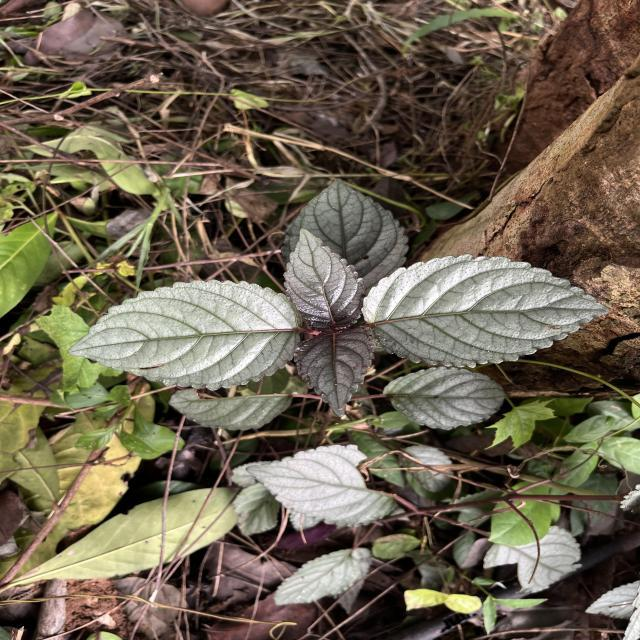Hemigraphis colorata: (358, 252, 614, 370), (61, 276, 306, 394), (280, 225, 368, 336), (380, 365, 510, 434), (292, 332, 379, 422)
